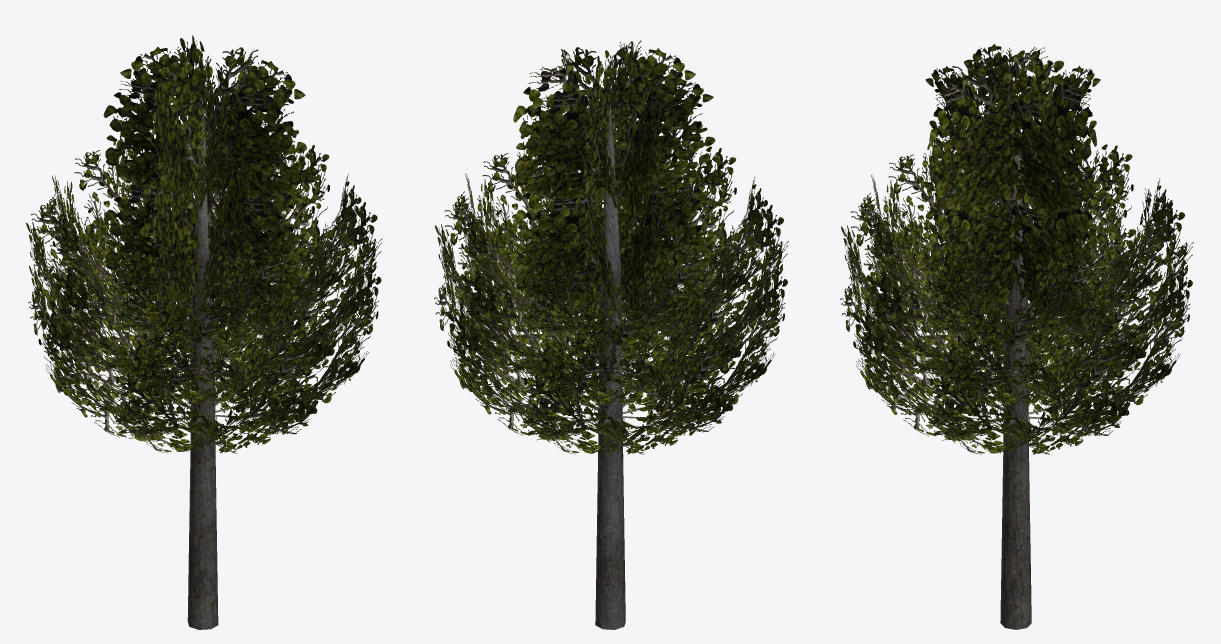
Rendered from Sharp_Pear05.gltf.
The picture shows the model from 3 angles, left to right: view 1: azimuth 30°, elevation 25°; view 2: azimuth 150°, elevation 25°; view 3: azimuth 270°, elevation 25°; orthographic projection.
Parts seen in each view (by area): view 1: Dfol, Afol, Bfol, Cfol, Trunk; view 2: Dfol, Afol, Bfol, Cfol, Trunk; view 3: Dfol, Afol, Bfol, Cfol, Trunk.
Part boxes in pixels (box(x1,y1,x2,y2)): Dfol: box(103, 35, 306, 334); Afol: box(28, 207, 381, 453); Bfol: box(26, 163, 382, 405); Cfol: box(45, 129, 361, 349); Trunk: box(187, 100, 218, 629); Dfol: box(513, 40, 715, 338); Afol: box(434, 212, 787, 454); Bfol: box(435, 166, 788, 406); Cfol: box(452, 138, 767, 350); Trunk: box(595, 103, 625, 629); Dfol: box(925, 44, 1100, 333); Afol: box(840, 219, 1192, 454); Bfol: box(841, 167, 1193, 407); Cfol: box(858, 138, 1172, 351); Trunk: box(1000, 125, 1031, 629).
Bounding box in the file's own units: 17.04 × 28.57 × 16.83.
2 materials, 2 textured.
